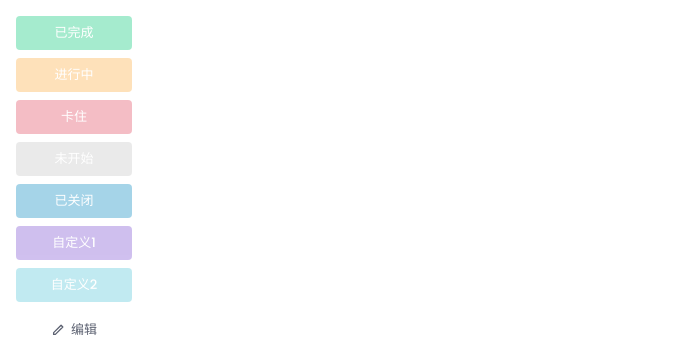
Test: WorkItemLabelPopoverContent › 编辑态切换：点击编辑按钮平滑切换至编辑视图，多列分栏正确
This screenshot has width=686, height=363.
Click the button with class "edit-action-btn": (74, 330) [16,314,132,346]
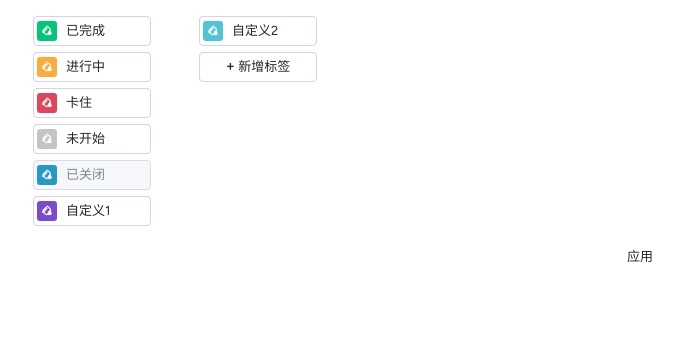
Expected: the element with class "label-edit-view" is shown
Expected: the number of elements with class "label-column" is 2, [33,16,151,226]; [199,16,317,82]
Expected: the button with class "apply-action-btn" is shown
Click the button with class "apply-action-btn": (640, 257) [611,242,669,272]
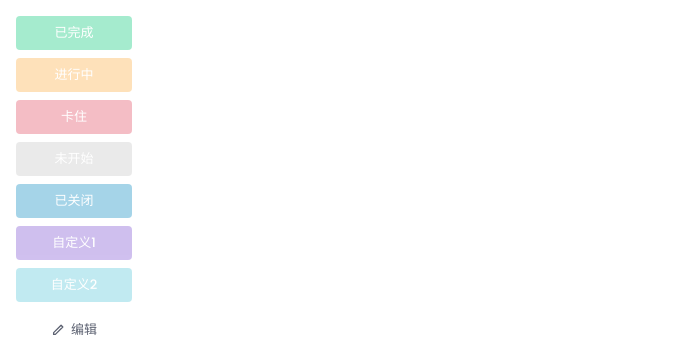
Expected: the element with class "label-select-view" is shown, [16,16,132,346]
